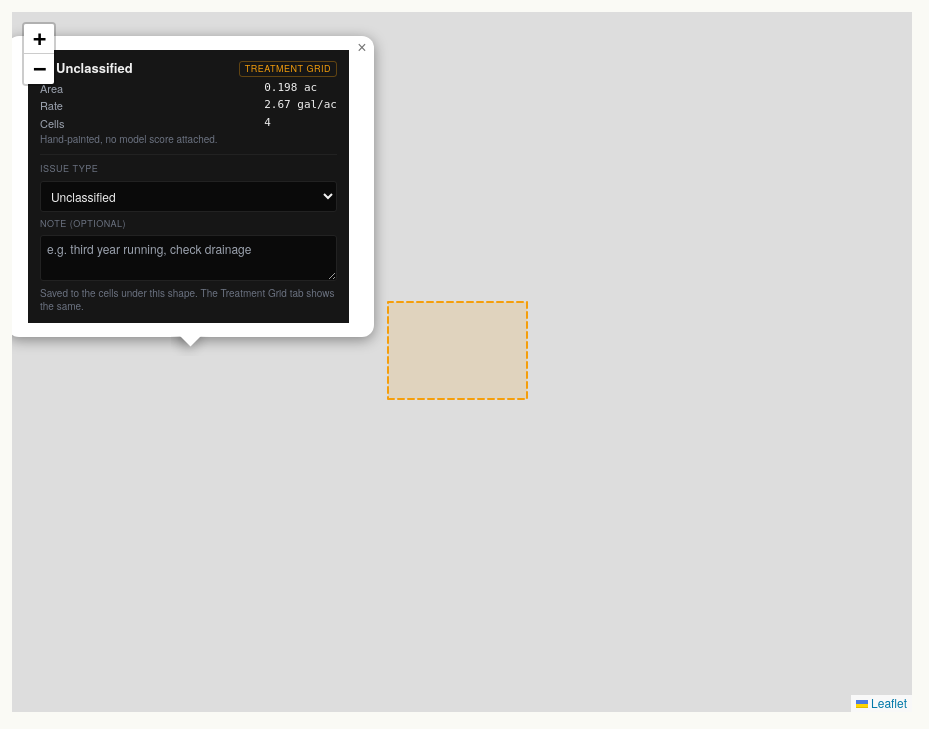
Test: what the controls do › says so when the write fails, instead of looking saved
Select "Bare soil" in the dropdown: point(188, 196) [40,181,337,212]
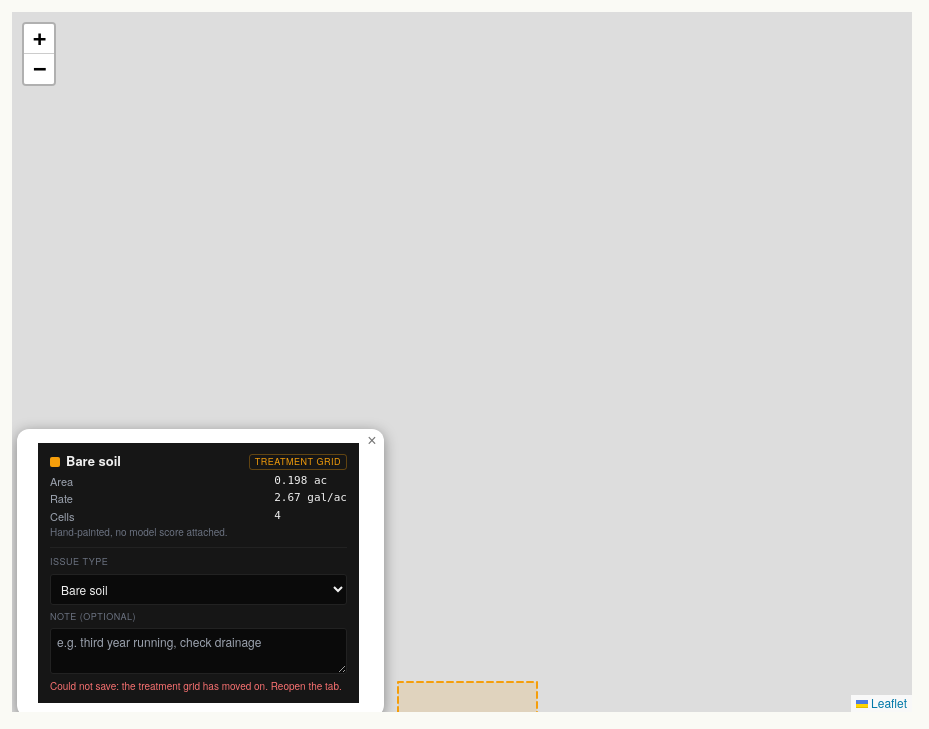
Now the text "Could not save" is shown, box [50,679,342,693]
